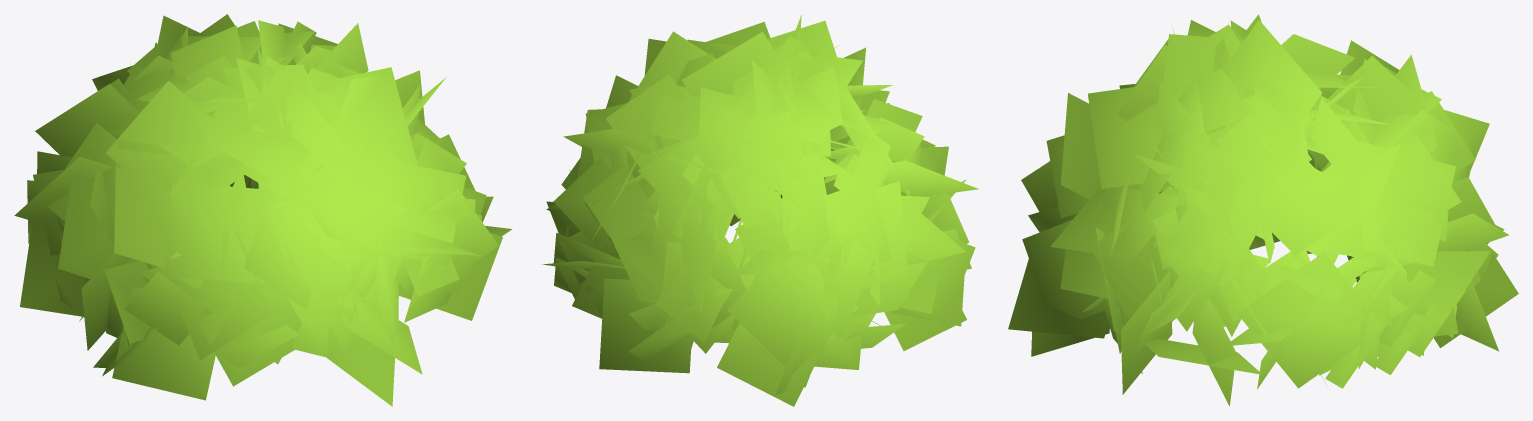
File: SFM_Shrub.fbx
The picture shows the model from 3 angles, left to right: view 1: azimuth 30°, elevation 25°; view 2: azimuth 150°, elevation 25°; view 3: azimuth 270°, elevation 25°; orthographic projection. The views are drawn at different scales.
Visible parts, largest first — view 1: SFM_Shrub; view 2: SFM_Shrub; view 3: SFM_Shrub.
Boxes of the visible parts, x1,y1,x2,y2 form: SFM_Shrub: [14, 14, 512, 406]; SFM_Shrub: [542, 15, 978, 406]; SFM_Shrub: [1008, 14, 1518, 406].
Bounding box in the file's own units: 173 × 128 × 178.
